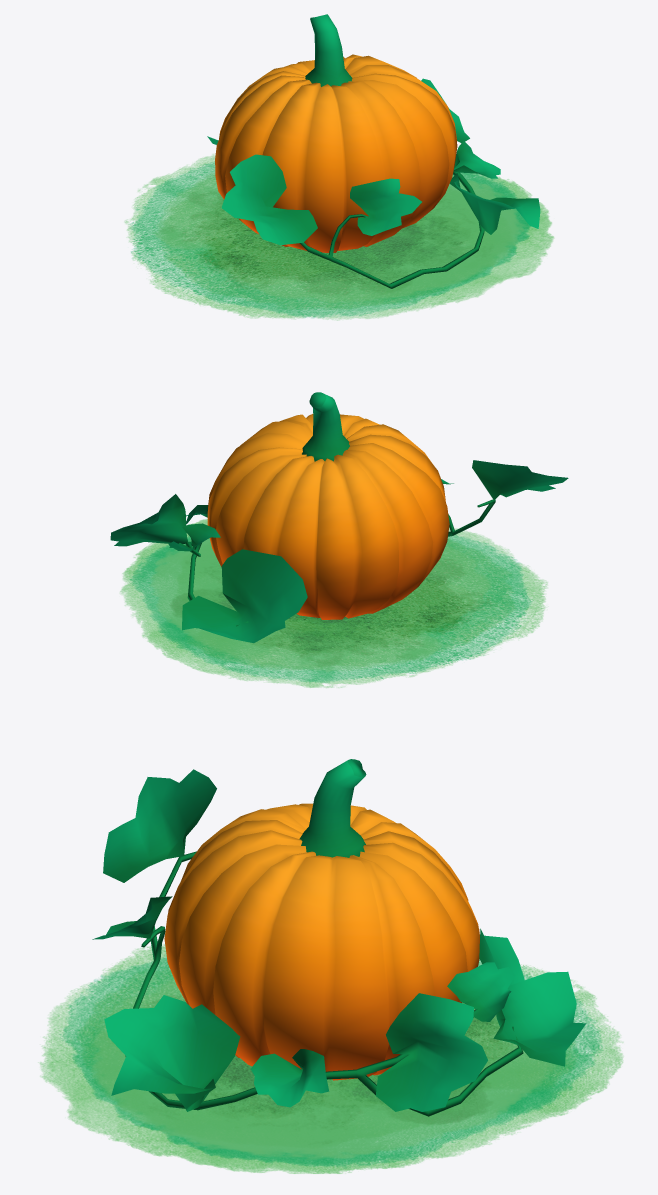
File: pumpkin.glb
The picture shows the model from 3 angles, top to bottom: view 1: azimuth 30°, elevation 25°; view 2: azimuth 150°, elevation 25°; view 3: azimuth 270°, elevation 25°; orthographic projection. The views are drawn at different scales.
Visible parts, largest first — view 1: Terra, Pumpkin, Leaf.001, Leaf.006, Tija, Leaf.003, Cube, Leaf.005; view 2: Pumpkin, Terra, Leaf.002, Leaf, Leaf.001, Tija, Cube, Leaf.004; view 3: Pumpkin, Terra, Leaf.003, Leaf, Leaf.001, Leaf.002, Tija, Cube, Leaf.005, Leaf.004, Leaf.006.
Boxes of the visible parts, x1,y1,x2,y2 form: Terra: (125, 154, 553, 320); Pumpkin: (215, 54, 457, 252); Leaf.001: (221, 154, 317, 245); Leaf.006: (350, 178, 421, 235); Tija: (305, 14, 352, 86); Leaf.003: (450, 173, 540, 234); Cube: (300, 171, 484, 288); Leaf.005: (453, 141, 500, 178); Pumpkin: (207, 414, 449, 619); Terra: (120, 519, 547, 687); Leaf.002: (182, 549, 307, 643); Leaf: (110, 494, 187, 546); Leaf.001: (472, 460, 568, 499); Tija: (302, 392, 349, 461); Cube: (185, 499, 495, 626); Leaf.004: (168, 523, 220, 551); Pumpkin: (164, 803, 479, 1080); Terra: (40, 944, 622, 1173); Leaf.003: (104, 995, 240, 1111); Leaf: (375, 993, 487, 1111); Leaf.001: (103, 769, 216, 882); Leaf.002: (479, 928, 586, 1066); Tija: (299, 759, 366, 857); Cube: (125, 851, 523, 1116); Leaf.005: (250, 1049, 329, 1107); Leaf.004: (447, 962, 515, 1021); Leaf.006: (92, 896, 172, 939).
Size of the model in its own units: 4 by 2.02 by 4.
2 materials, 2 textured.
